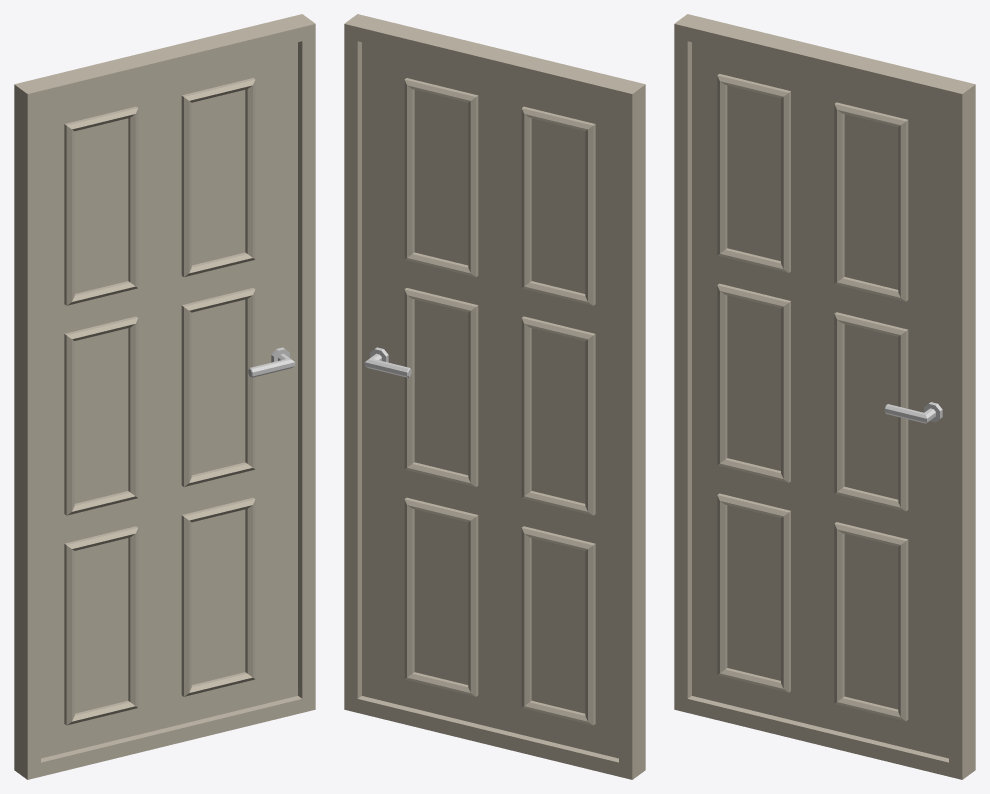
Rendered from Mesh_Door_B02.fbx.
3 renders of one model, left to right at view 1: azimuth 30°, elevation 25°; view 2: azimuth 150°, elevation 25°; view 3: azimuth 330°, elevation 25°, orthographic.
Visible parts, largest first — view 1: Mesh_Door_B02; view 2: Mesh_Door_B02; view 3: Mesh_Door_B02.
Boxes of the visible parts, <box> form: Mesh_Door_B02: <box>14,14,315,779</box>; Mesh_Door_B02: <box>344,14,645,779</box>; Mesh_Door_B02: <box>674,14,975,779</box>.
Size of the model in its own units: 0.9 by 2.05 by 0.1524.
